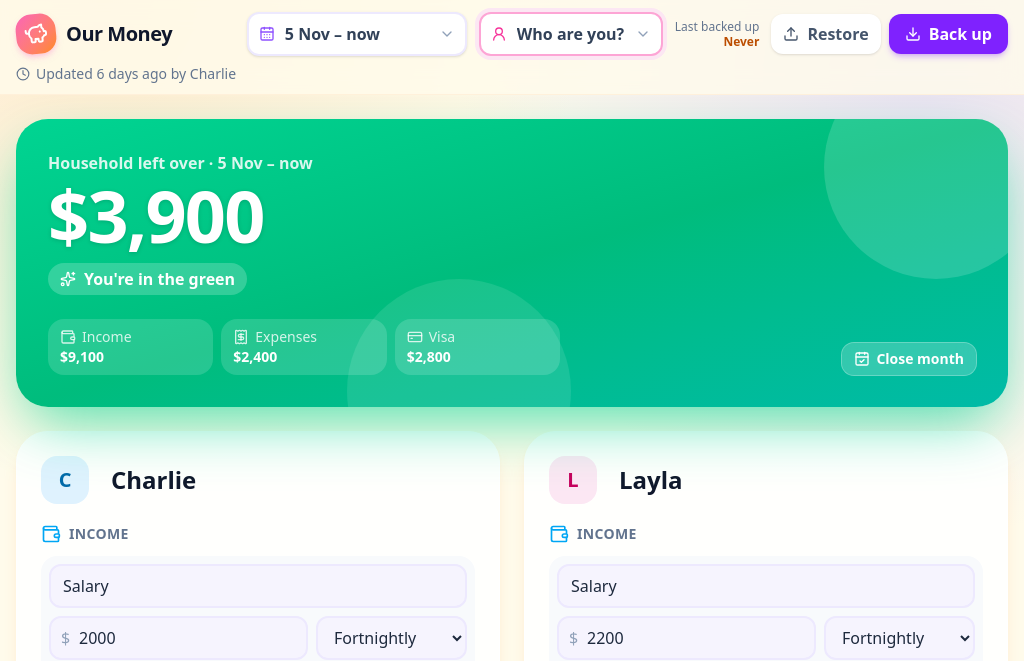
Restore › shows a friendly error for a file that fails validation
Click the button "Restore".
click(826, 34)  # box [771, 14, 881, 54]
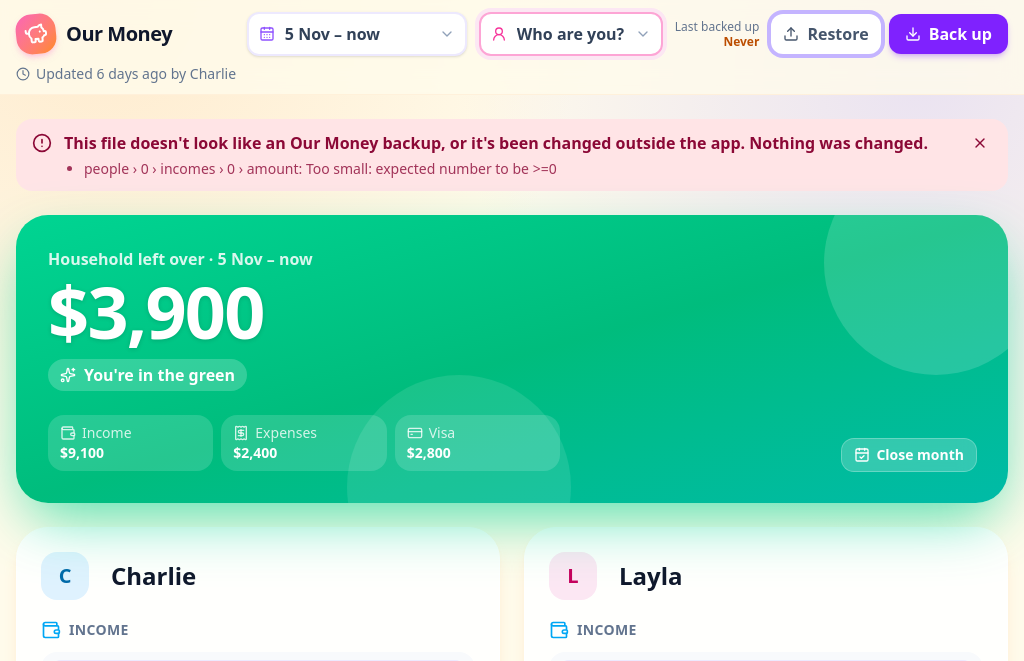
Check: the message shows "doesn't look like an Our Money backup", box [64, 132, 928, 154]
Check: the message shows "people › 0 › incomes › 0 › amount", box [84, 159, 557, 178]
